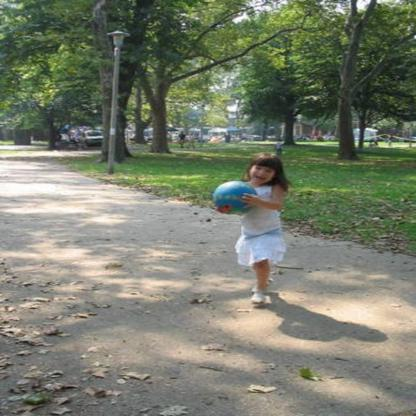Ball: (212, 181, 258, 217)
